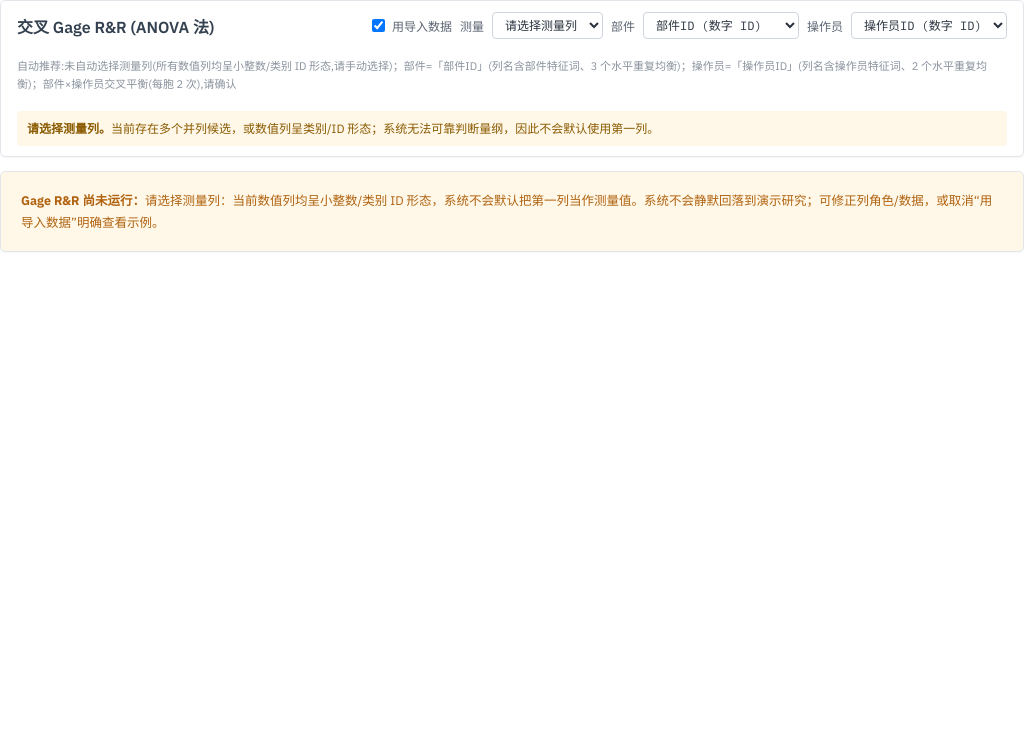
Test: GageRR 默认角色推荐(716-R3 P1-2) › 全小整数/类别 ID 列不自动把第一列当测量值，UI 要求显式选择
手动选择后才写入角色状态；这也证明小整数测量仍可由用户明确指定。
Select "批次ID" in the dropdown named "测量列": (548,26) [492,12,603,39]
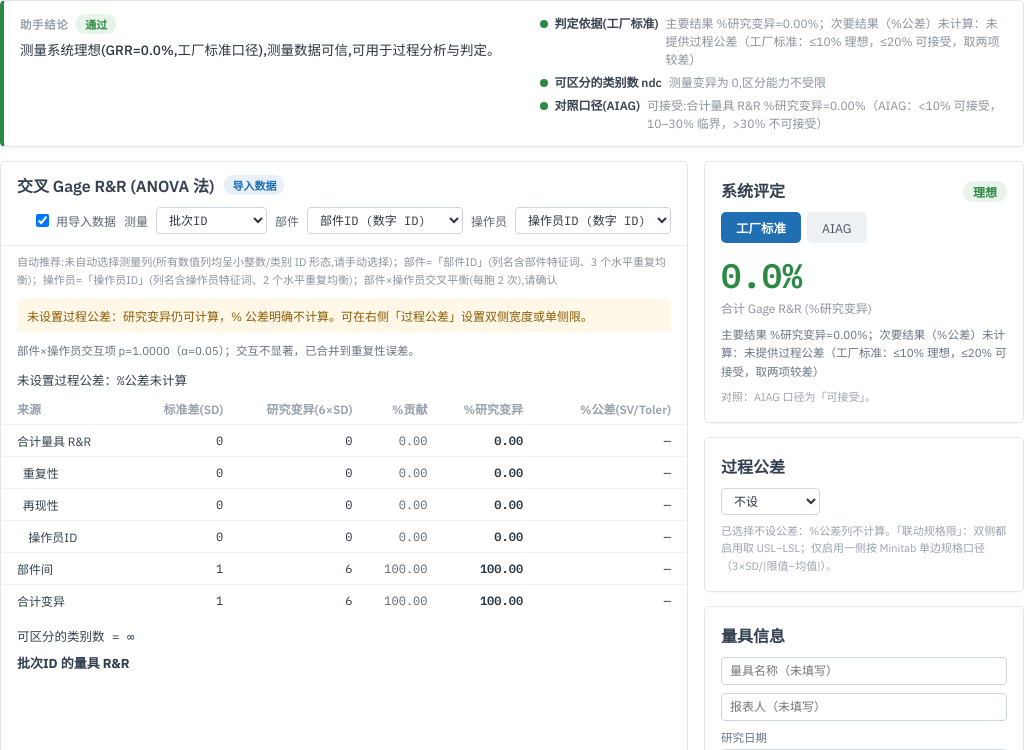
Now the dropdown named "测量列" shows "批次ID", box [156,207,267,234]
Now the text "不会默认使用第一列" is gone
